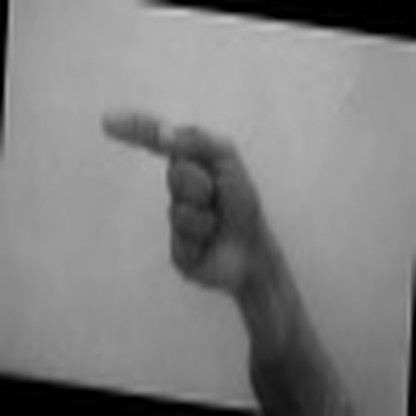g: (94, 102, 265, 296)
